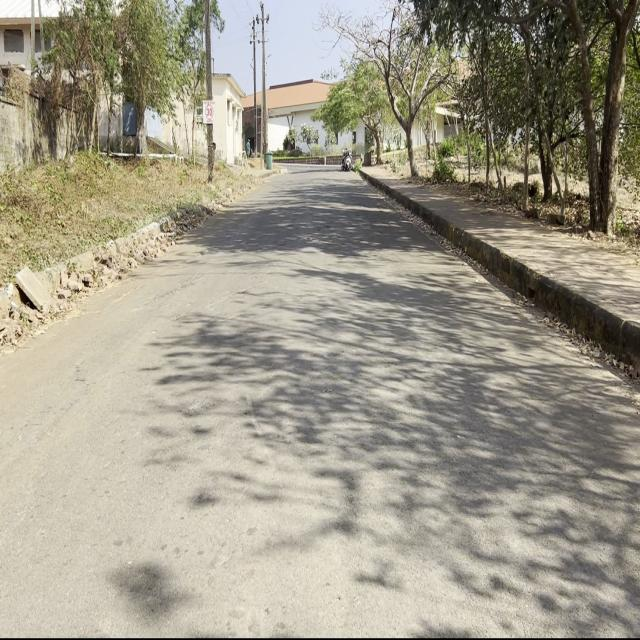Road: (5, 172, 639, 632)
